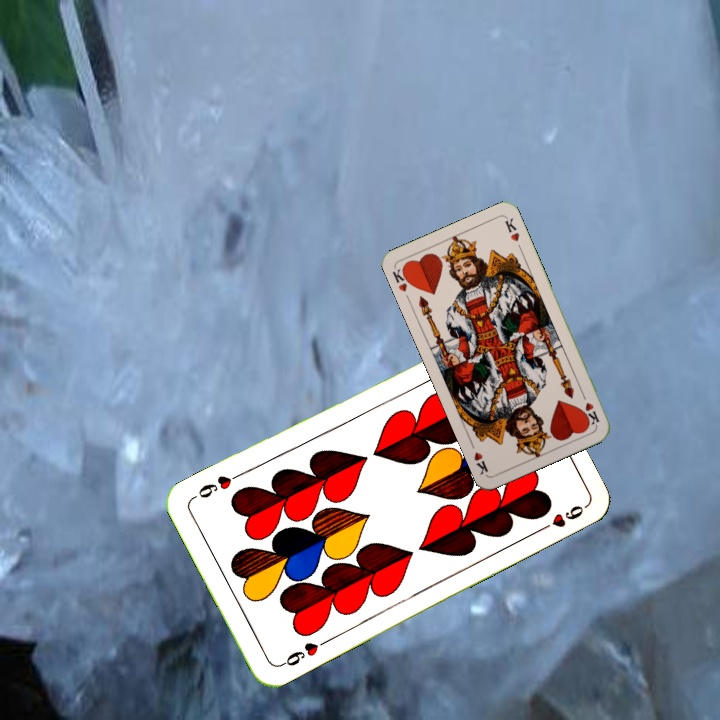H9: (275, 636, 330, 670)
HK: (577, 388, 602, 428), (388, 262, 415, 294)
